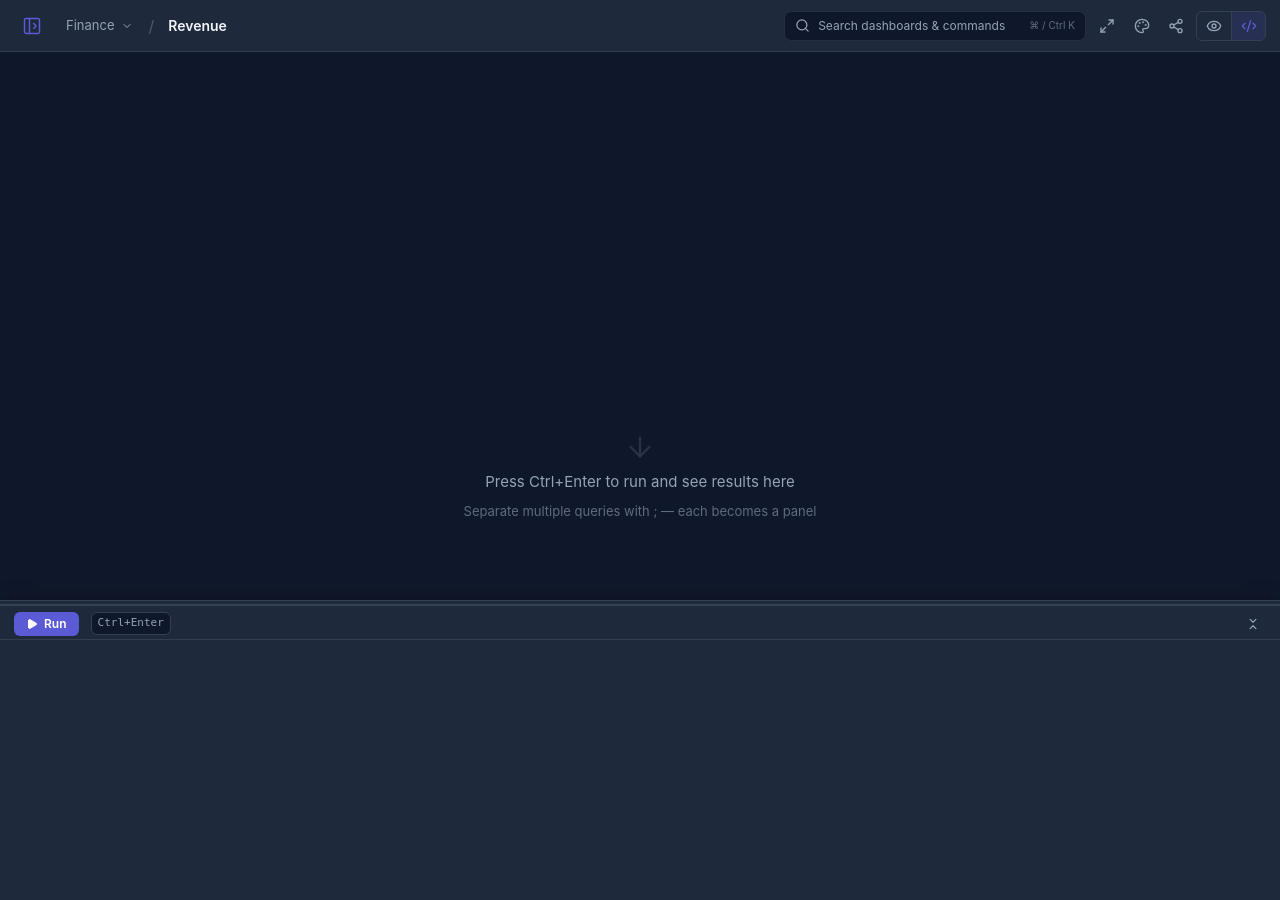
Test case: / workspace navigation › hides navigation entirely, reopens it, then restores keyboard focus when closed
expect the button "Revenue" is shown: met, box [164,13,231,38]
Click the button named "Show navigation" at x=32, y=26, box [14,8,50,44]
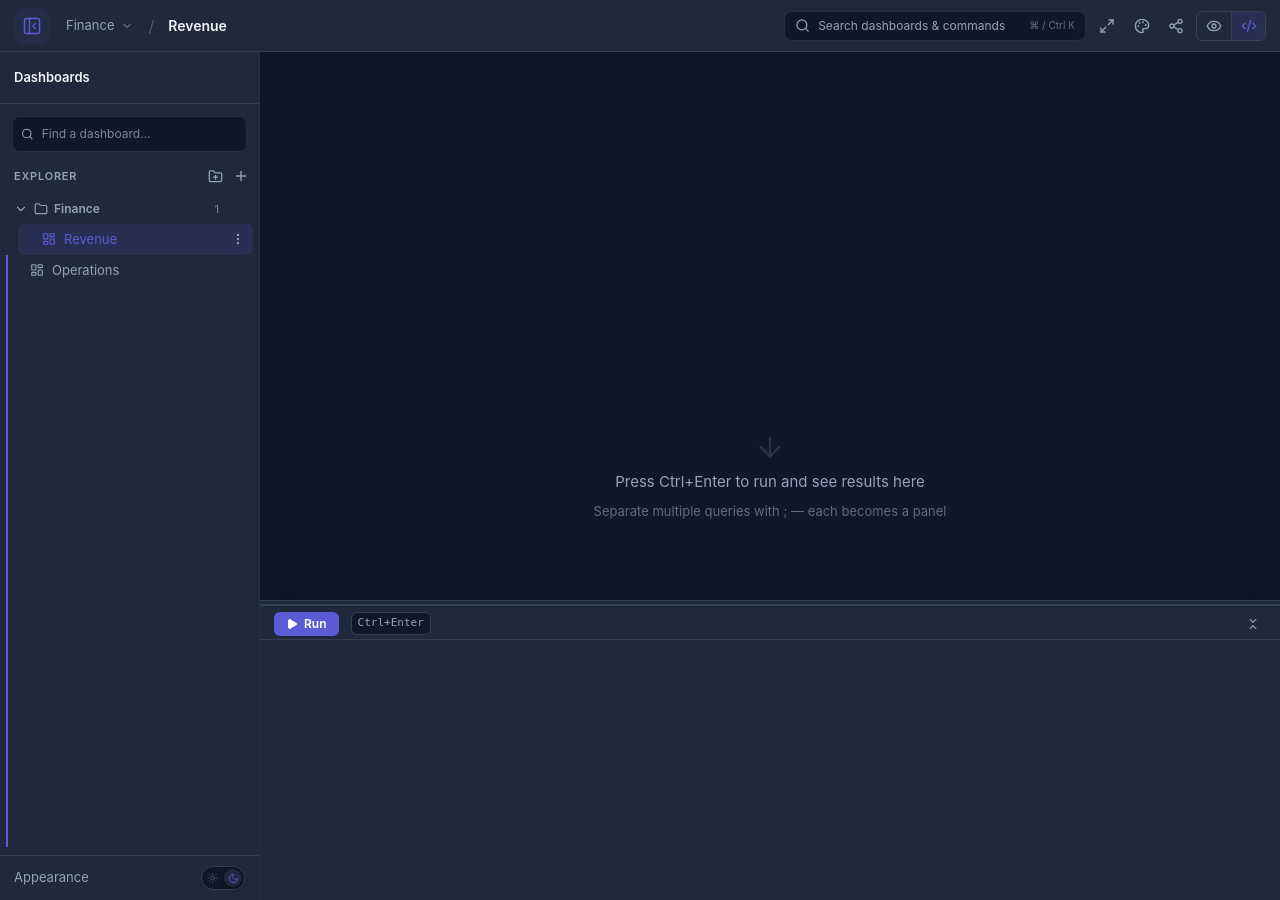
expect the navigation bar named "Dashboard explorer" is shown: met, box [0,52,259,899]
Click the button named "Hide navigation" at x=32, y=26, box [14,8,50,44]
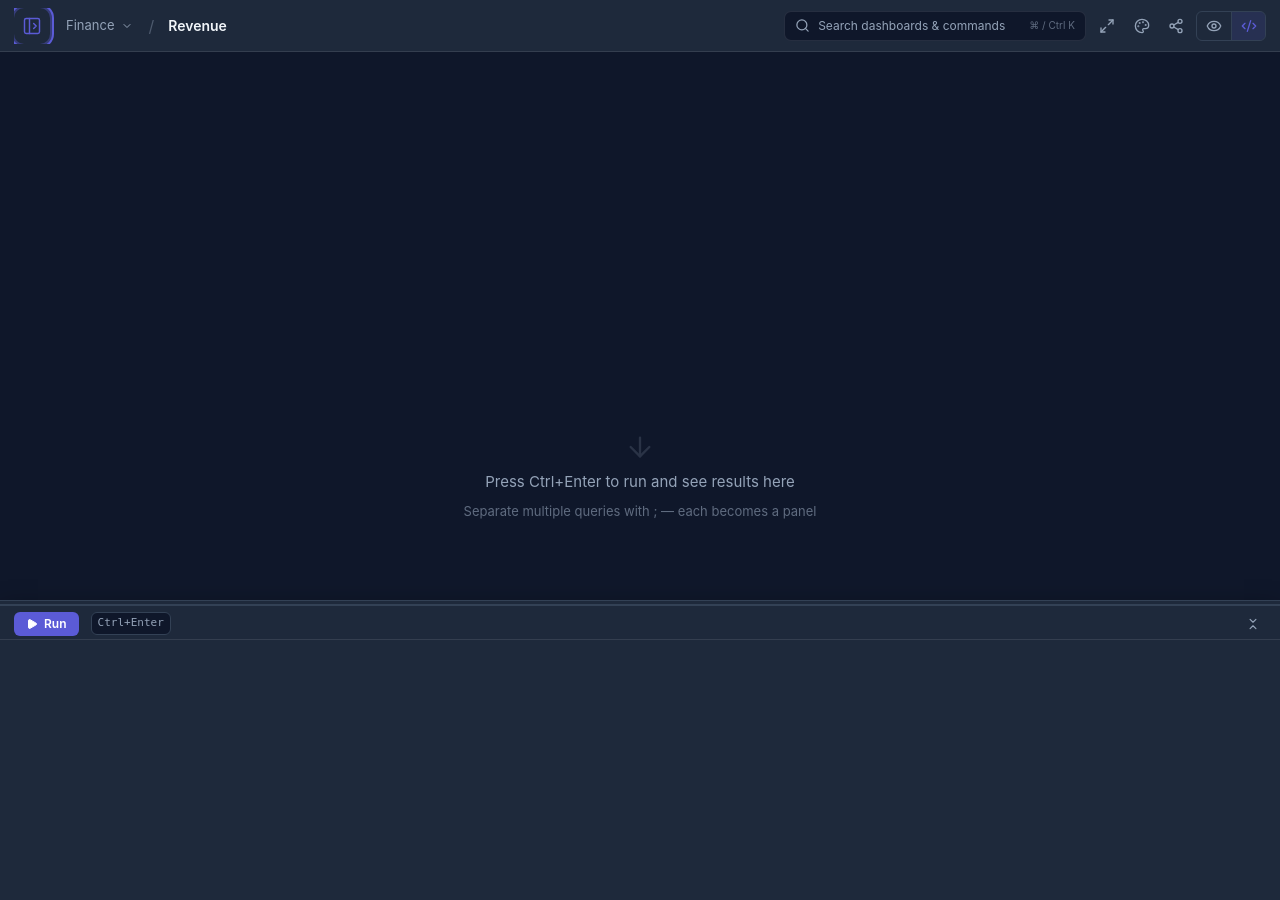
expect the navigation bar is gone: met
